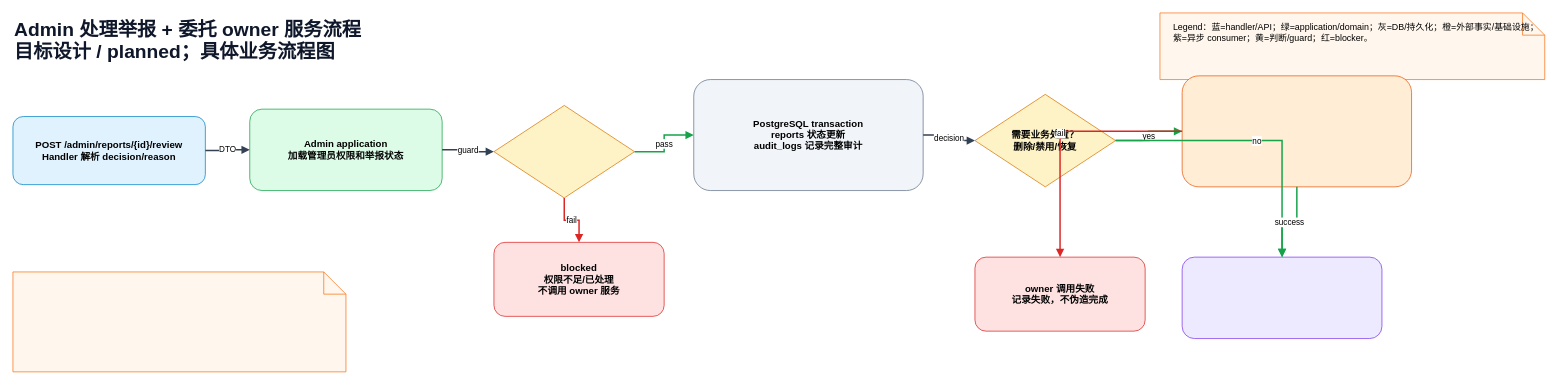
This 1558x385 diagram has some shape labels left out. Here are the shapes that lost their labels. From the top down, the box of each, then its label:
(1181, 75, 1412, 187): 调用 owner service Comment/Delete 或 Content/User mutation 携带 admin context
(493, 105, 635, 198): 权限和状态 是否允许处理？
(1181, 256, 1382, 339): 更新处理结果 返回管理端 DTO
(12, 271, 346, 372): 关键约束 Admin 保存审核审计；业务状态仍由 User/Content/Comment owner 服务修改。
